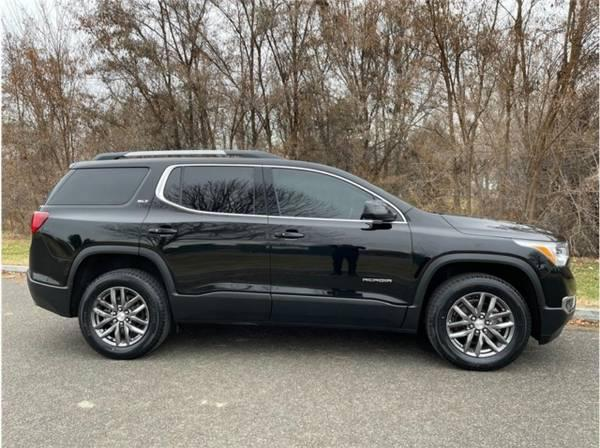Front_Bumper: (530, 264, 583, 345)
Front_Fender: (406, 207, 554, 329)
Front_Right_Door: (269, 212, 417, 323)
Front_Right_Window: (263, 163, 409, 221)
Hood: (443, 210, 561, 238)
Rear_Bumper: (26, 271, 74, 318)
Rear_Fender: (28, 165, 166, 286)
Rear_Right_Door: (136, 196, 271, 320)
Rear_Right_Window: (154, 163, 267, 215)
Right_Headlight: (516, 236, 572, 268)
Right_Taillight: (31, 209, 51, 239)
Roof: (65, 152, 417, 214)
Wheel: (426, 273, 531, 371), (75, 263, 169, 356)
